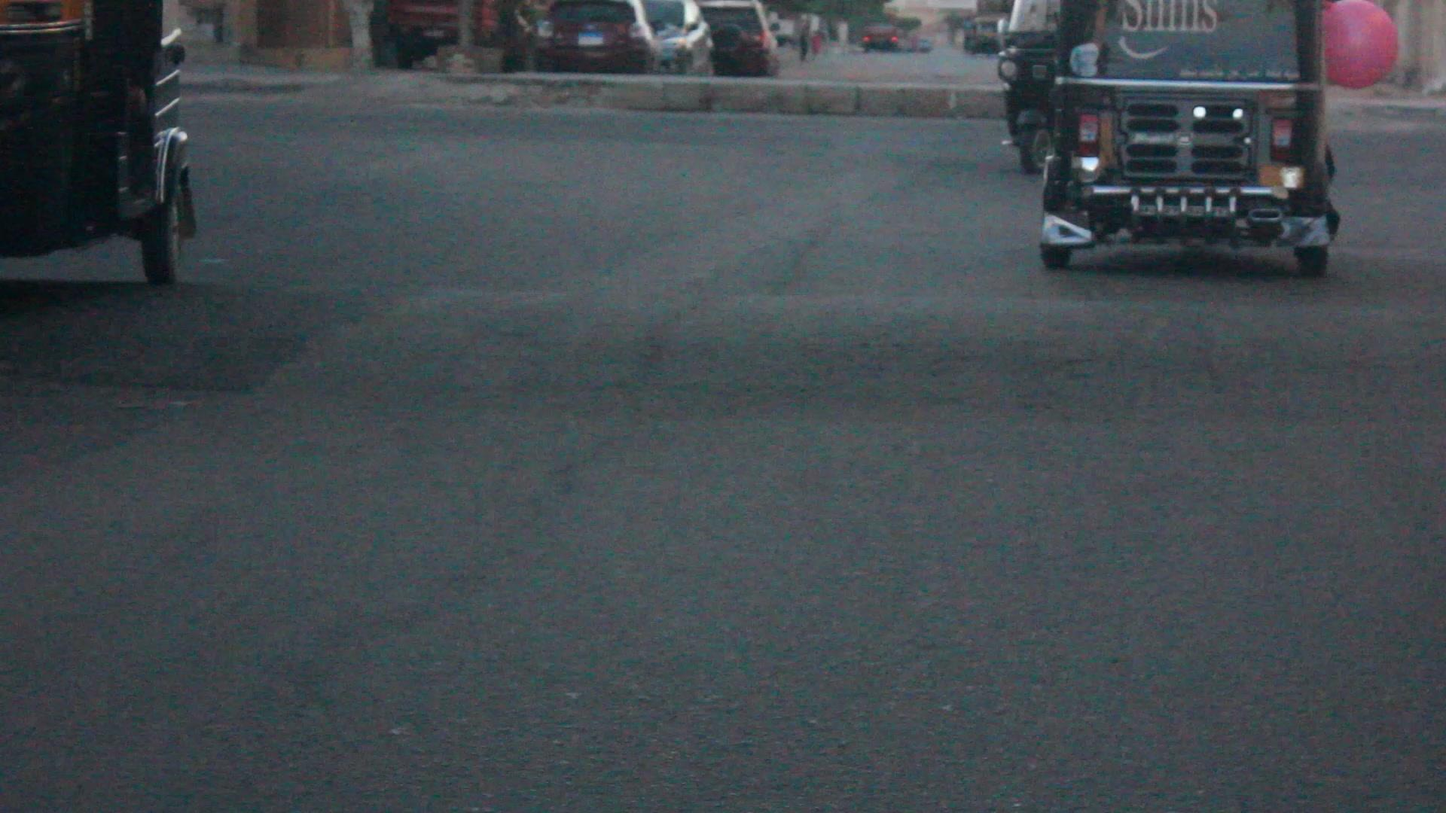Bump: (26, 280, 1446, 412)
